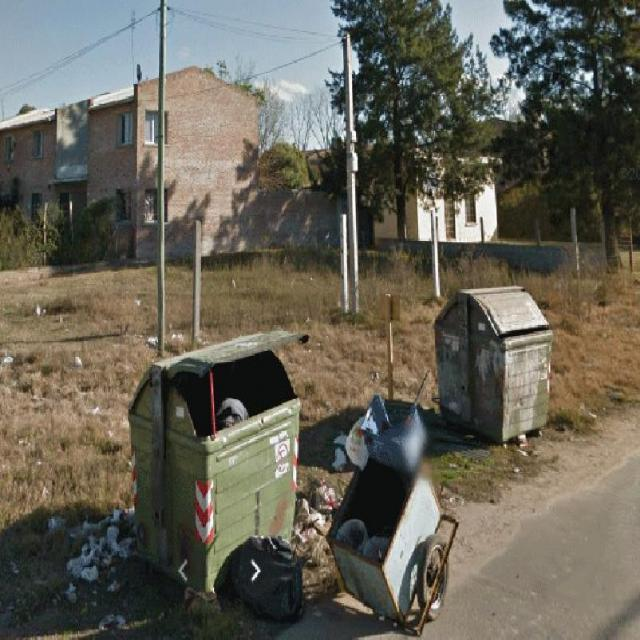garbage: (33, 500, 140, 611), (210, 526, 310, 635), (210, 396, 254, 432)
